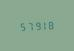eight: (46, 19, 52, 30)
five: (18, 20, 24, 31)
nine: (32, 20, 38, 30)
one: (39, 19, 45, 30)
seven: (25, 20, 31, 31)
